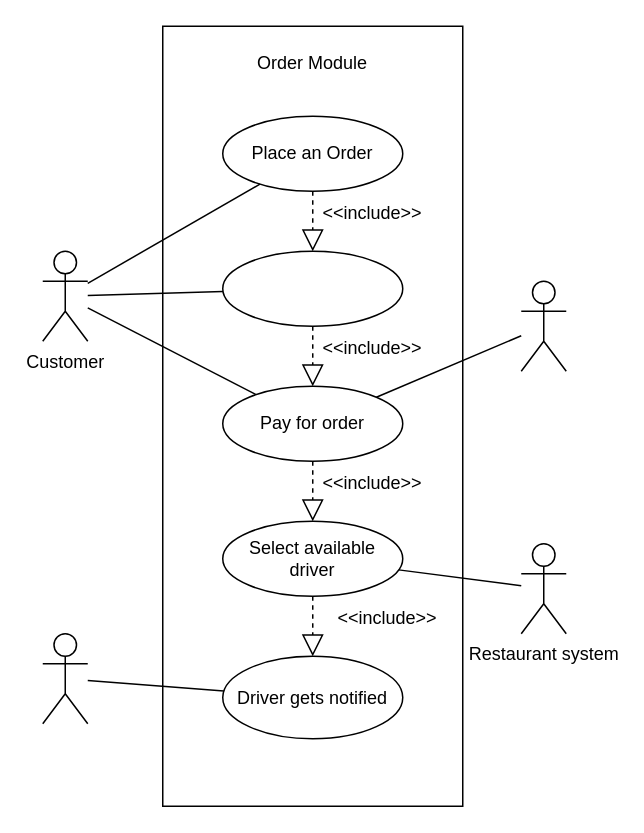
This 644x833 diagram has some shape labels left out. The shapes that lost their labels are listed below. From the top down, each one's centre as x and y in pixels, then its label:
At (x=312, y=288): "Choose delivery location".
At (x=543, y=325): "Payment Service".
At (x=64, y=678): "Driver".
